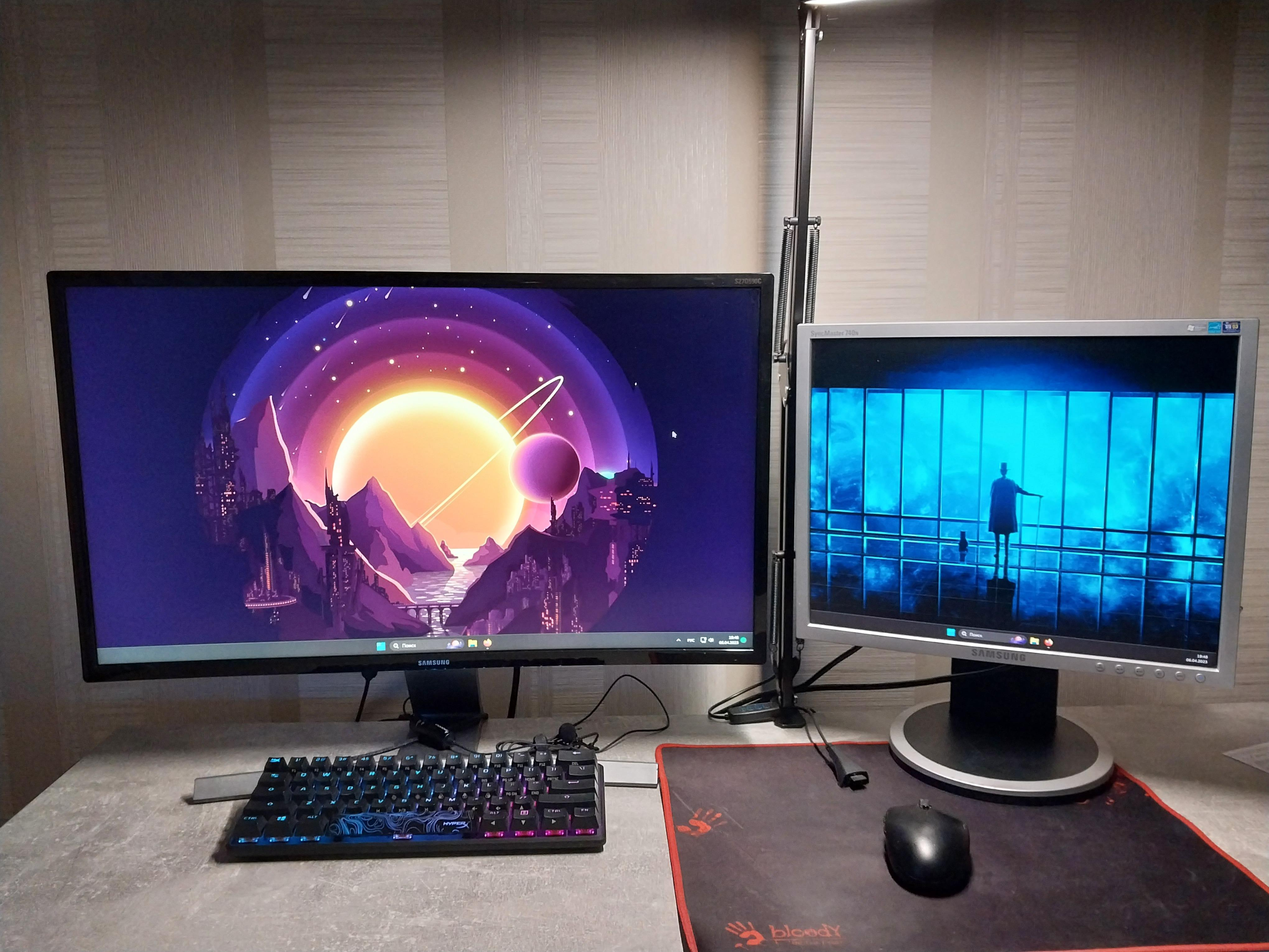monitor: (39, 264, 779, 680), (790, 311, 1263, 691)
